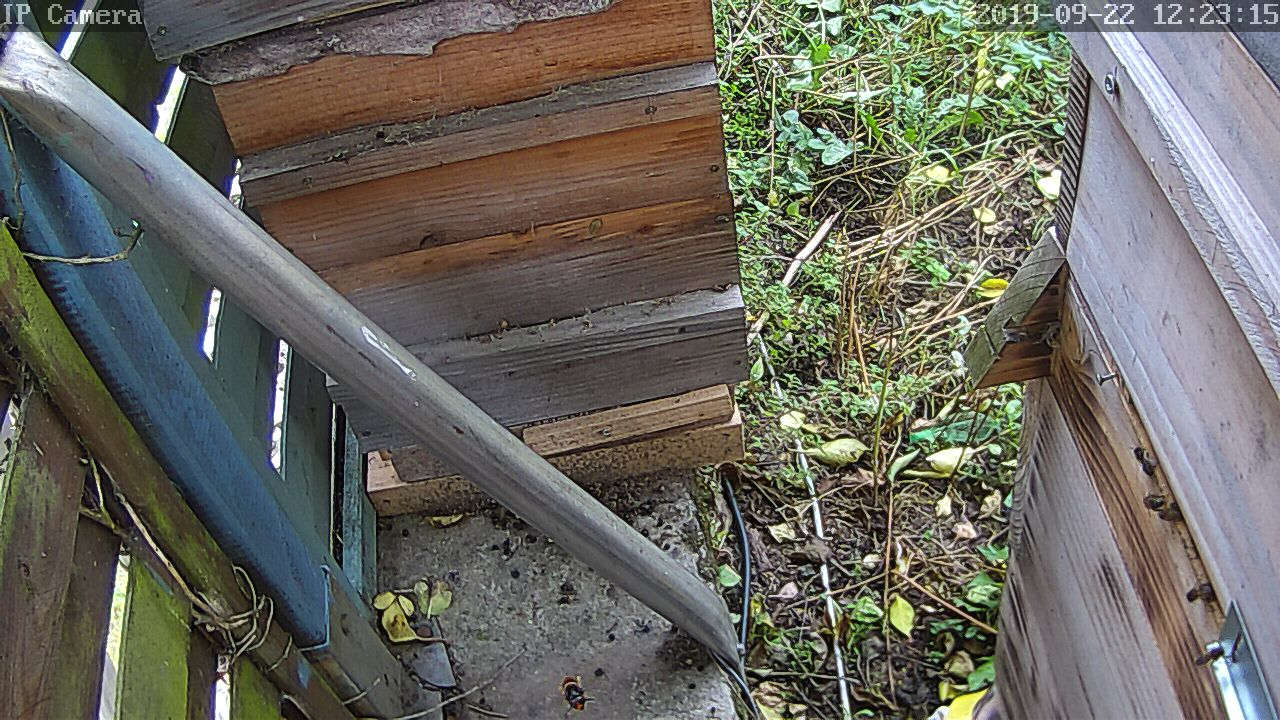bee: (1142, 486, 1187, 525), (1188, 637, 1229, 675), (1185, 578, 1226, 614), (1130, 449, 1162, 484)
hornet: (554, 671, 598, 716)
